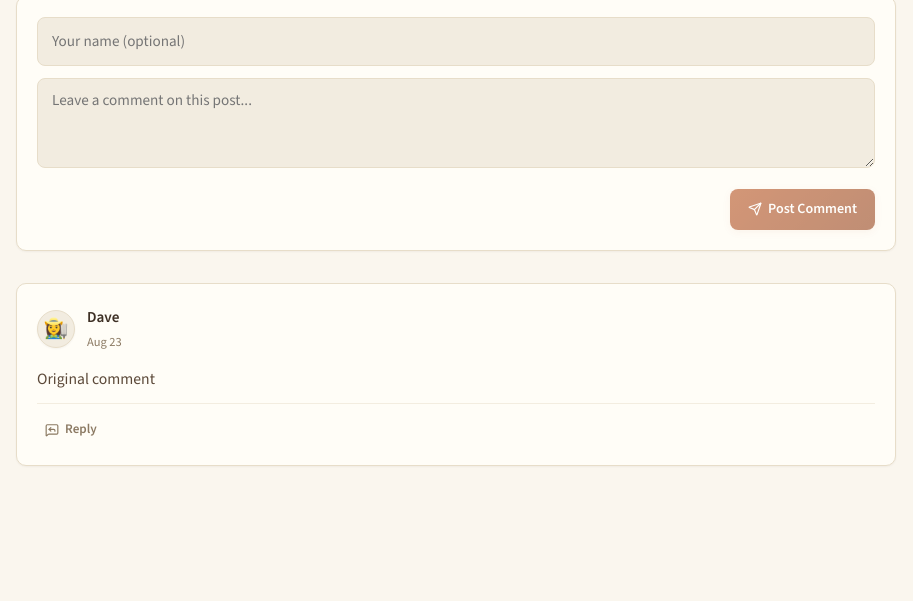
Test: Comments feature › CommentsSection component › allows replying to an existing comment
The image size is (913, 601).
Expected: the text "Dave" is shown, [87,306,120,326]
Expected: the text "Original comment" is shown, [37,368,155,389]
Click the button "Reply" at (71, 430), box [37,414,105,445]
(page scrolled)
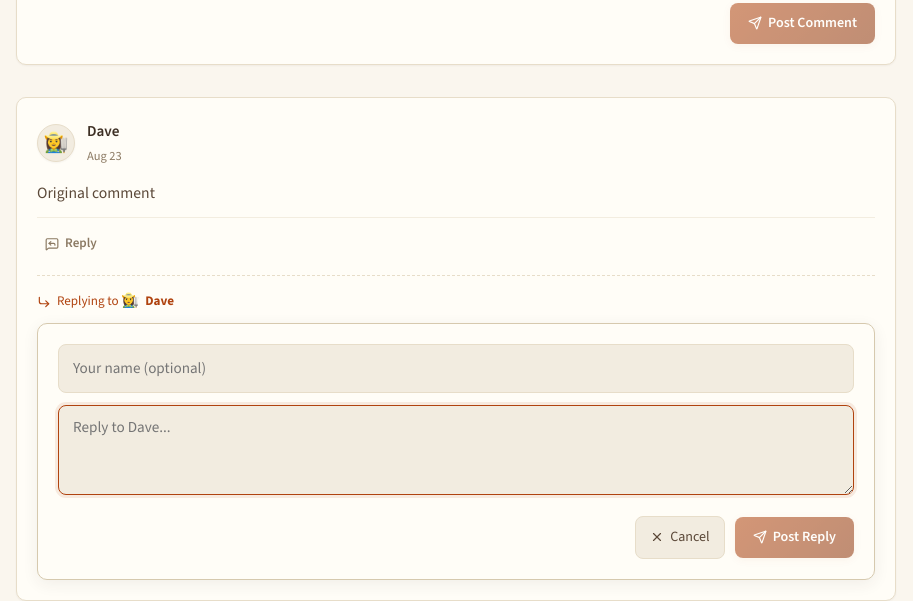
Type "I agree with Dave!" into the text box with placeholder "Reply to Dave..." at (456, 450), box [58,405,854,495]
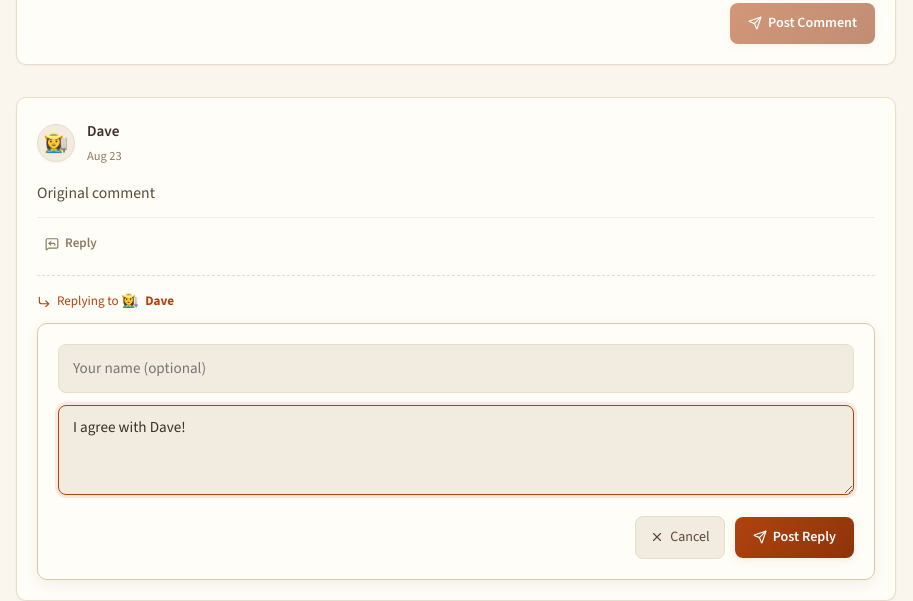
Click the button "Post Reply" at (794, 537), box [735,517,854,558]
(page scrolled)
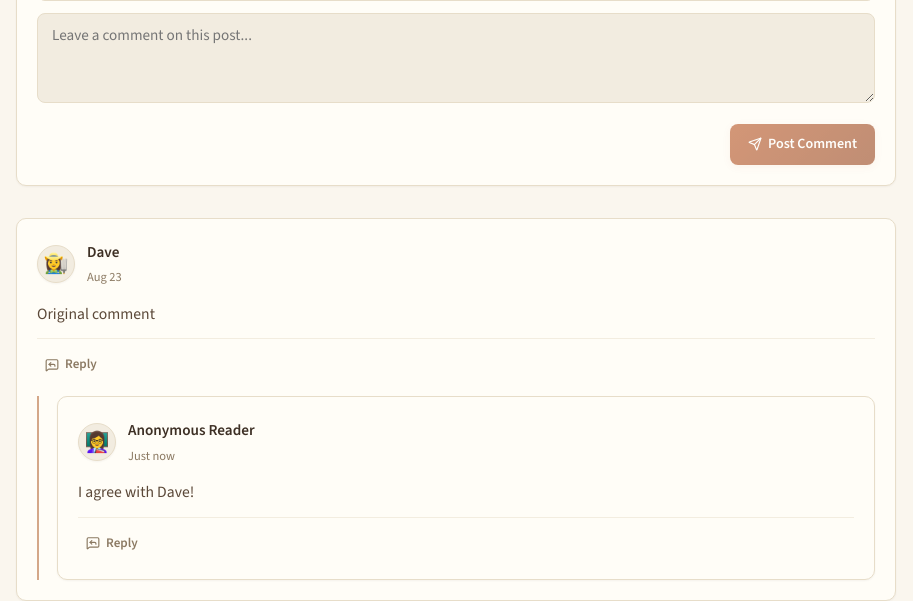
Result: the text "I agree with Dave!" is shown at [78,482,194,502]
